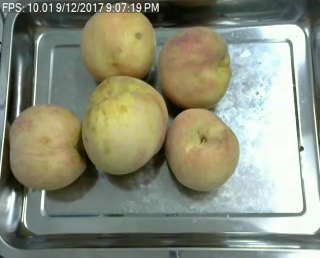Peach: (82, 75, 168, 176), (9, 103, 89, 191), (81, 1, 156, 84), (157, 25, 228, 109), (166, 109, 237, 191)
